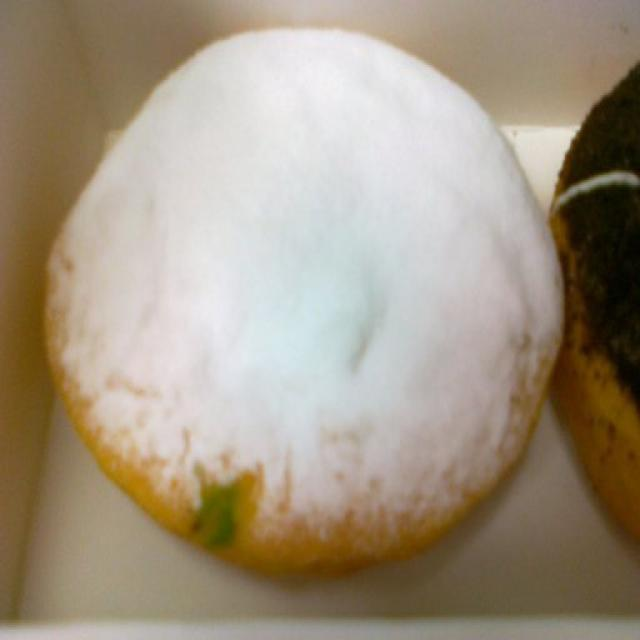Donuts: (31, 13, 640, 631)
